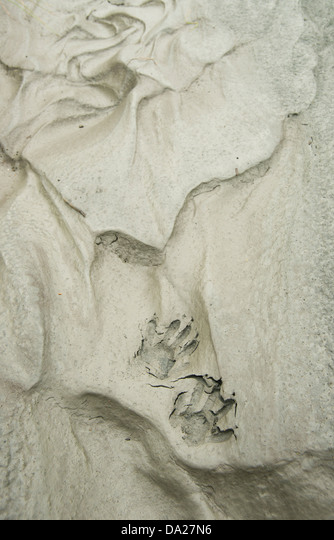raccoon: (163, 367, 252, 454), (127, 308, 207, 376)
